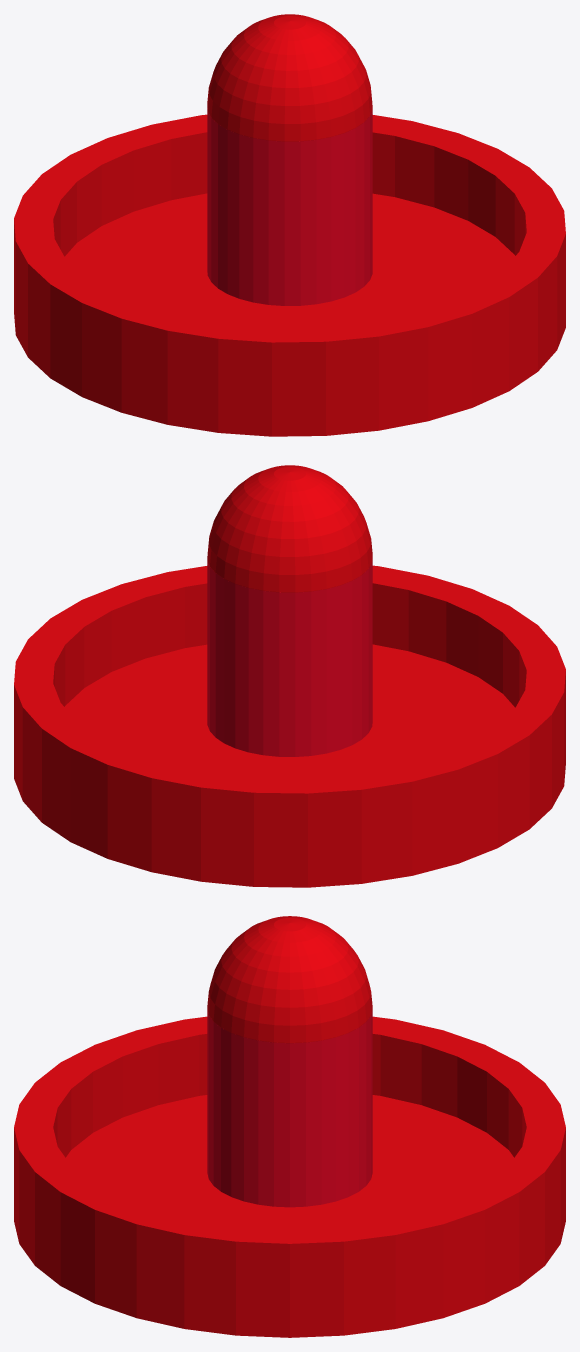
Rendered from RedPaddle.fbx.
3 renders of one model, top to bottom at view 1: azimuth 30°, elevation 25°; view 2: azimuth 150°, elevation 25°; view 3: azimuth 270°, elevation 25°, orthographic.
Parts seen in each view (by area): view 1: 円柱, 円柱.001, 球; view 2: 円柱, 円柱.001, 球; view 3: 円柱, 円柱.001, 球.
Boxes of the visible parts, x1,y1,x2,y2 form: 円柱: (14,114,565,436); 円柱.001: (207,108,372,305); 球: (207,14,372,141); 円柱: (14,565,565,887); 円柱.001: (207,559,372,756); 球: (207,465,372,592); 円柱: (14,1016,565,1337); 円柱.001: (207,1010,372,1207); 球: (207,916,372,1043).
Bounding box in the file's own units: 200 × 119 × 200.
